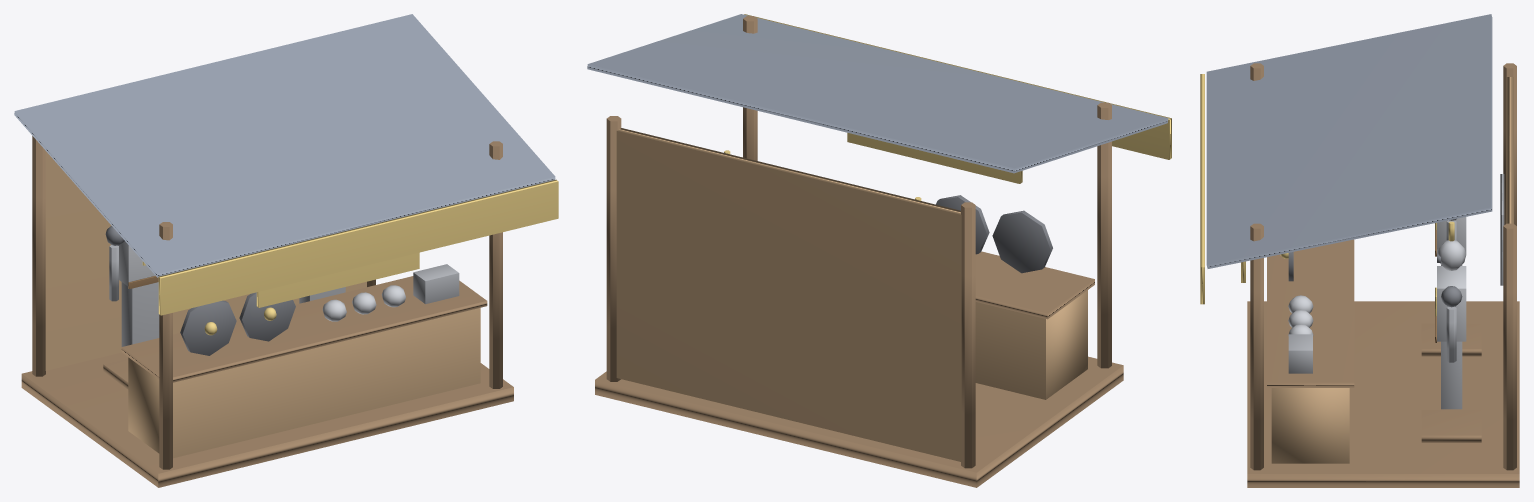
File: puesto_armaduras.glb
The picture shows the model from 3 angles, left to right: view 1: azimuth 30°, elevation 25°; view 2: azimuth 150°, elevation 25°; view 3: azimuth 270°, elevation 25°; orthographic projection. The views are drawn at different scales.
Visible parts, largest first — view 1: Pz_Toldo, Grupo_1_2piezas, Grupo_0_8piezas, Pz_Toldo_Franja, Grupo_2_8piezas, Grupo_6_8piezas, Pz_Letrero_Puesto, Grupo_3_7piezas; view 2: Grupo_1_2piezas, Pz_Toldo, Grupo_0_8piezas, Grupo_6_8piezas, Pz_Toldo_Franja, Pz_Letrero_Puesto; view 3: Pz_Toldo, Grupo_0_8piezas, Grupo_1_2piezas, Grupo_3_7piezas, Grupo_2_8piezas, Pz_Toldo_Franja, Grupo_6_8piezas.
Part boxes in pixels (box(x1,y1,x2,y2)): Pz_Toldo: box(14, 14, 555, 277); Grupo_1_2piezas: box(45, 151, 480, 458); Grupo_0_8piezas: box(21, 136, 513, 487); Pz_Toldo_Franja: box(158, 179, 558, 315); Grupo_2_8piezas: box(109, 245, 459, 346); Grupo_6_8piezas: box(105, 226, 295, 355); Pz_Letrero_Puesto: box(256, 252, 419, 307); Grupo_3_7piezas: box(118, 241, 405, 321); Grupo_1_2piezas: box(616, 128, 1087, 461); Pz_Toldo: box(587, 14, 1168, 173); Grupo_0_8piezas: box(595, 16, 1123, 487); Grupo_6_8piezas: box(936, 195, 1052, 273); Pz_Toldo_Franja: box(744, 14, 1171, 159); Pz_Letrero_Puesto: box(847, 133, 1022, 183); Pz_Toldo: box(1206, 14, 1492, 268); Grupo_0_8piezas: box(1247, 63, 1519, 487); Grupo_1_2piezas: box(1271, 77, 1513, 463); Grupo_3_7piezas: box(1288, 217, 1466, 341); Grupo_2_8piezas: box(1288, 174, 1504, 409); Pz_Toldo_Franja: box(1200, 74, 1204, 304); Grupo_6_8piezas: box(1288, 218, 1462, 307).
Bounding box in the file's own units: 4.7 × 3.3 × 3.28.
